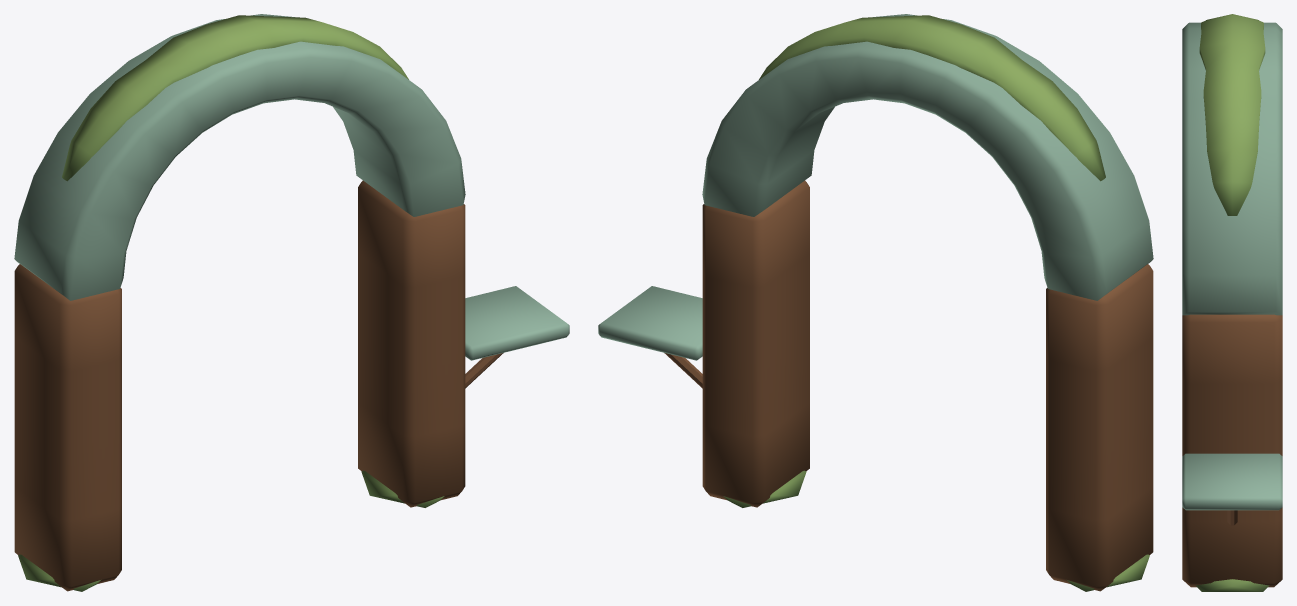
Rendered from Kit_Calm_GateArch_02.glb.
3 renders of one model, left to right at view 1: azimuth 30°, elevation 25°; view 2: azimuth 150°, elevation 25°; view 3: azimuth 270°, elevation 25°, orthographic. The views are drawn at different scales.
Visible parts, largest first — view 1: EX_GateArch02_Wood, EX_GateArch02_Leaves; view 2: EX_GateArch02_Wood, EX_GateArch02_Leaves; view 3: EX_GateArch02_Wood, EX_GateArch02_Leaves.
Boxes of the visible parts, x1,y1,x2,y2 form: EX_GateArch02_Wood: [14, 14, 569, 591]; EX_GateArch02_Leaves: [18, 15, 444, 591]; EX_GateArch02_Wood: [598, 14, 1153, 591]; EX_GateArch02_Leaves: [723, 15, 1149, 591]; EX_GateArch02_Wood: [1182, 22, 1282, 587]; EX_GateArch02_Leaves: [1195, 14, 1269, 591].
Size of what is drawn, in the model's own units: 3.32 by 3.08 by 0.6.
